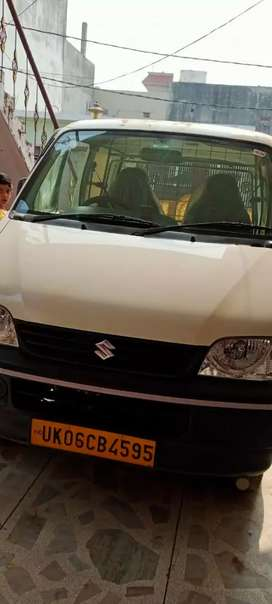UK06CB4595: (30, 415, 155, 470)
